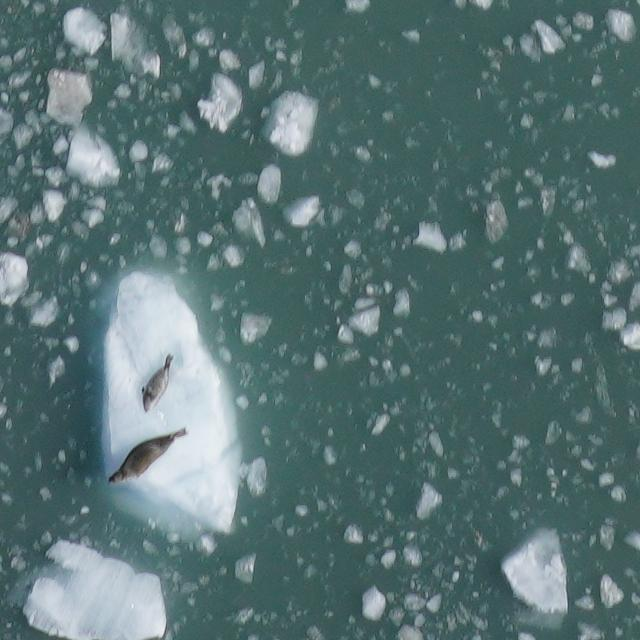seal: (105, 423, 192, 488), (138, 351, 178, 416)
